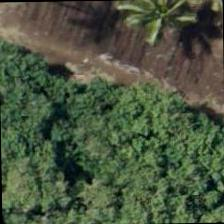Kelapa_Sawit: (122, 0, 214, 52)
